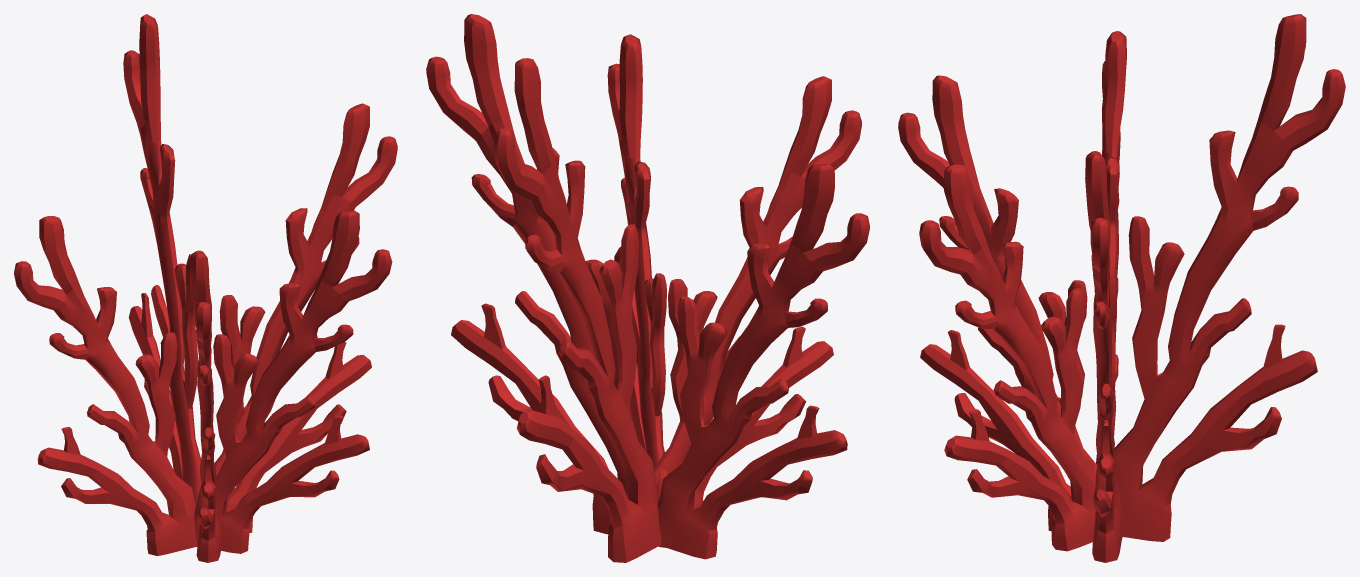
Rendered from coral.glb.
The picture shows the model from 3 angles, left to right: view 1: azimuth 30°, elevation 25°; view 2: azimuth 150°, elevation 25°; view 3: azimuth 270°, elevation 25°; orthographic projection. The views are drawn at different scales.
Visible parts, largest first — view 1: pCylinder23_Redd_0; view 2: pCylinder23_Redd_0; view 3: pCylinder23_Redd_0.
Boxes of the visible parts, <box> form: pCylinder23_Redd_0: <box>14,14,397,562</box>; pCylinder23_Redd_0: <box>426,14,869,562</box>; pCylinder23_Redd_0: <box>898,14,1345,562</box>.
Size of the model in its own units: 0.8634 by 1 by 0.7556.
